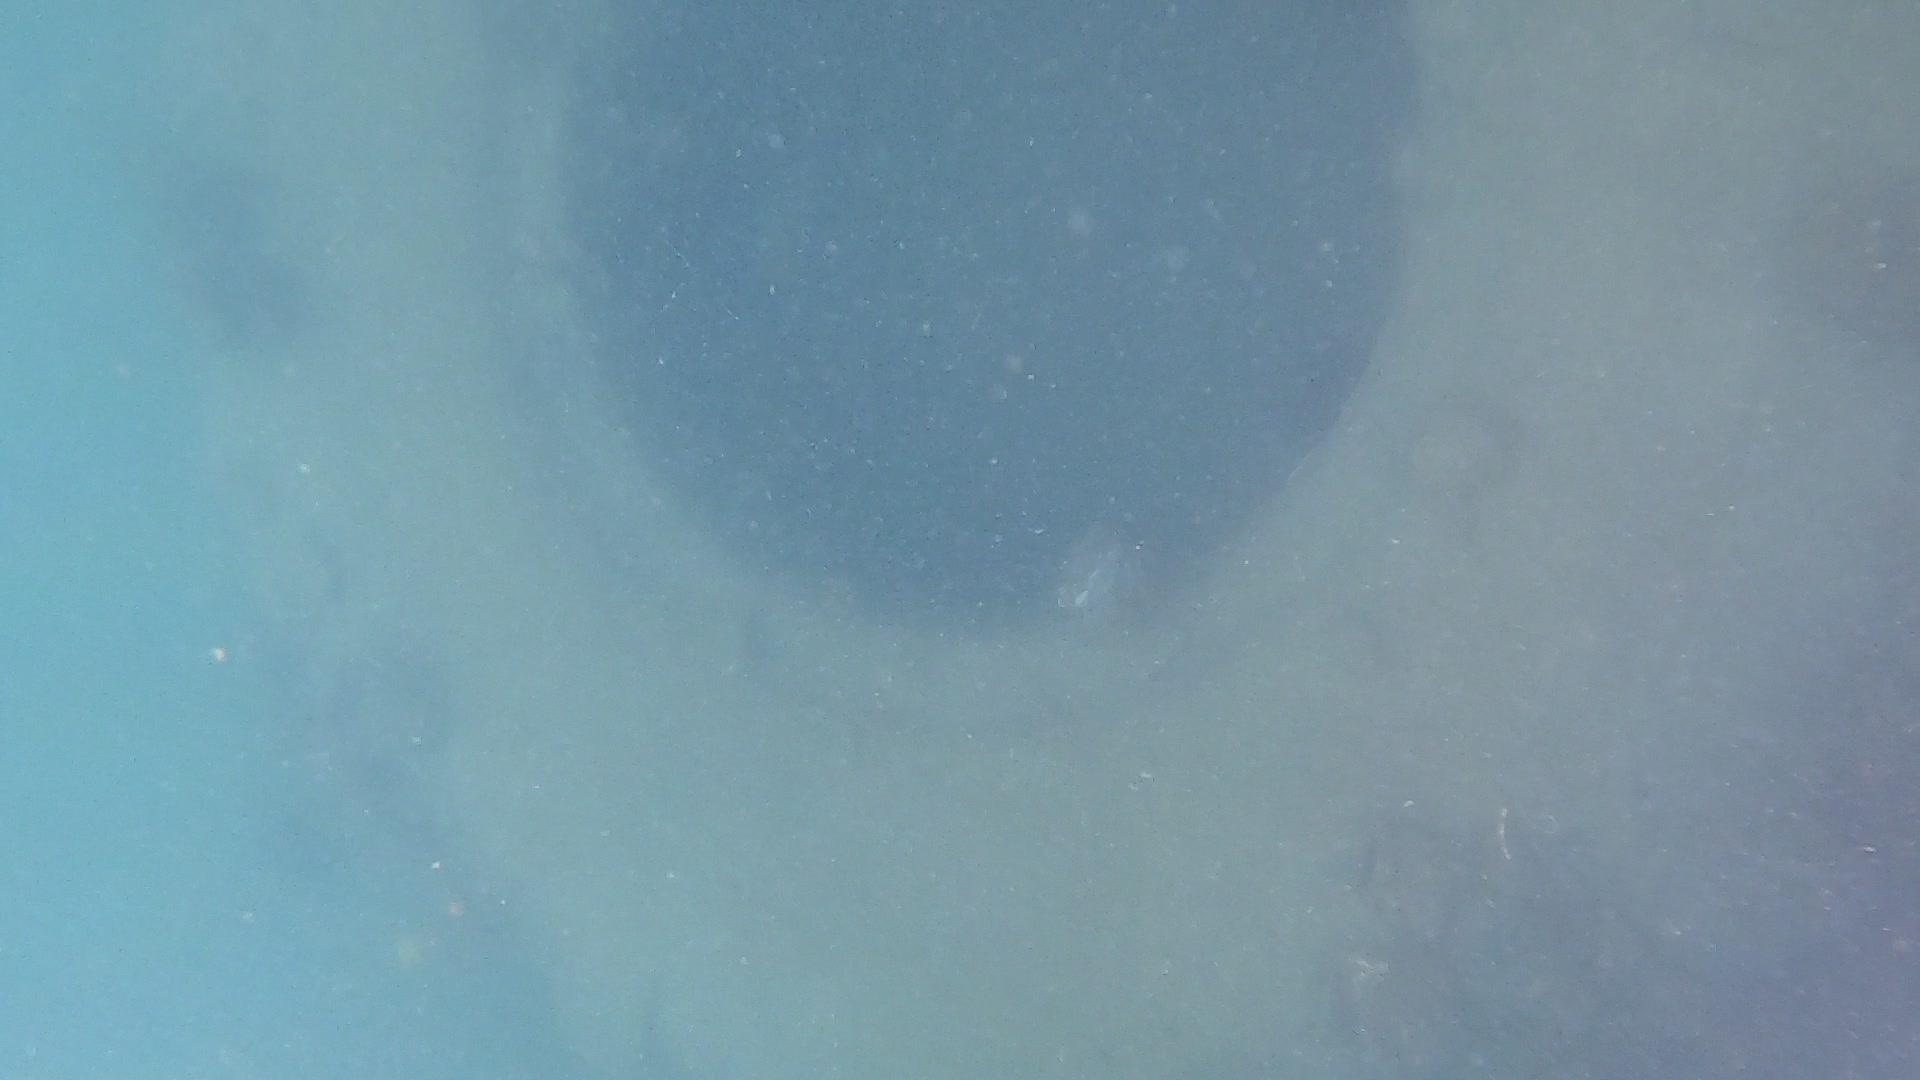tire: (132, 0, 1920, 1080)
